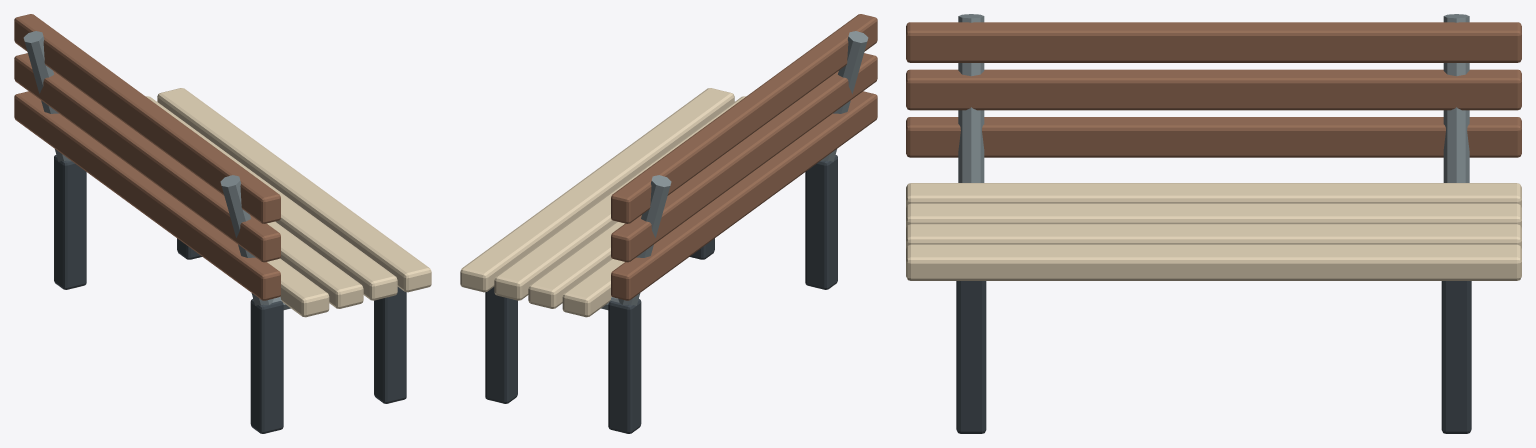
The model's file is Bench.fbx.
3 renders of one model, left to right at view 1: azimuth 30°, elevation 25°; view 2: azimuth 150°, elevation 25°; view 3: azimuth 270°, elevation 25°, orthographic. The views are drawn at different scales.
Parts seen in each view (by area): view 1: Bench; view 2: Bench; view 3: Bench.
Part boxes in pixels (bbox=[...]): Bench: bbox=[14, 14, 431, 433]; Bench: bbox=[460, 14, 877, 433]; Bench: bbox=[906, 14, 1521, 433].
Size of the model in its own units: 70.63 by 94.43 by 165.
